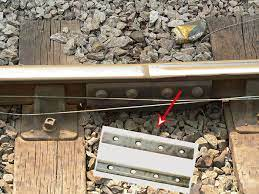insulated joint: (85, 80, 212, 111)
